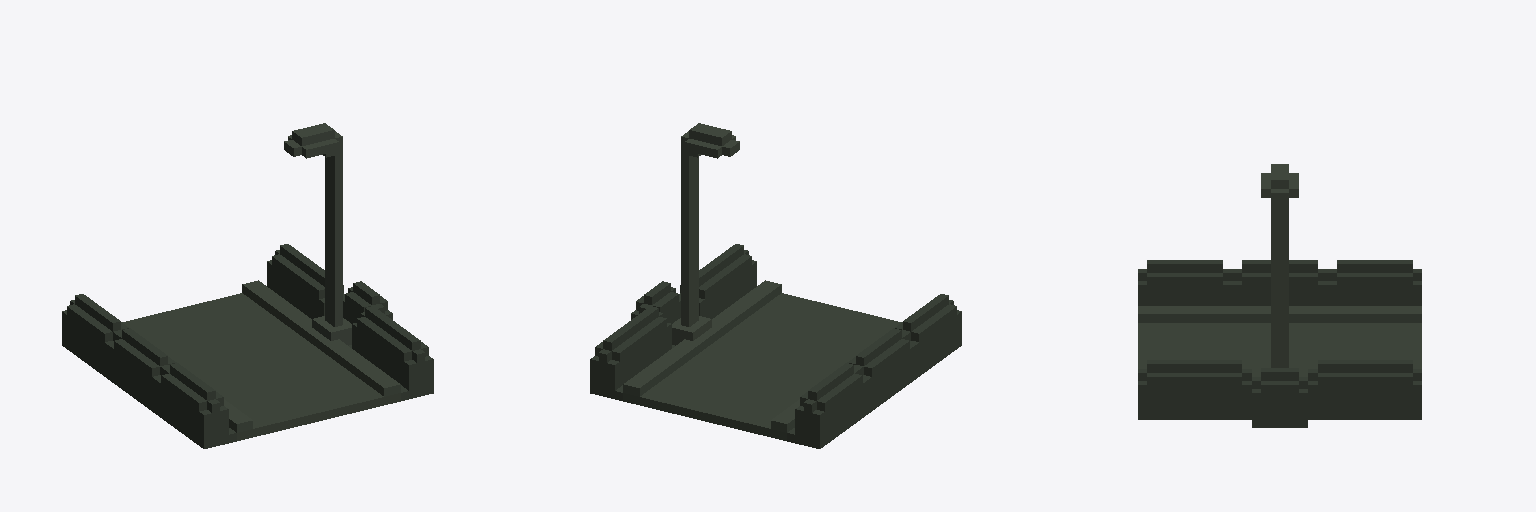
The picture shows the model from 3 angles: view 1: azimuth 30°, elevation 25°; view 2: azimuth 150°, elevation 25°; view 3: azimuth 270°, elevation 25°; orthographic projection.
Parts seen in each view (by area): view 1: object 1; view 2: object 1; view 3: object 1.
Boxes of the visible parts, x1,y1,x2,y2 form: object 1: [62, 123, 433, 448]; object 1: [590, 123, 961, 448]; object 1: [1138, 164, 1421, 427].
Bounding box in the file's own units: 3 × 2.6 × 3.
1 materials, 1 textured.